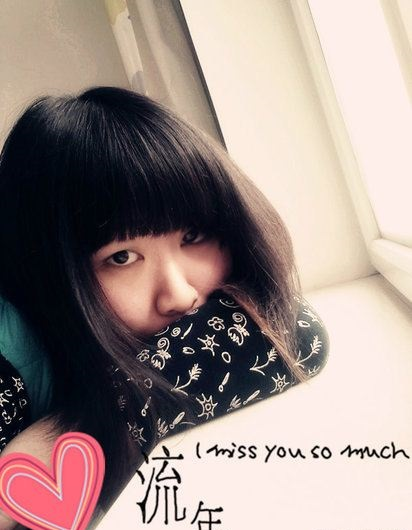face: (77, 154, 226, 378)
